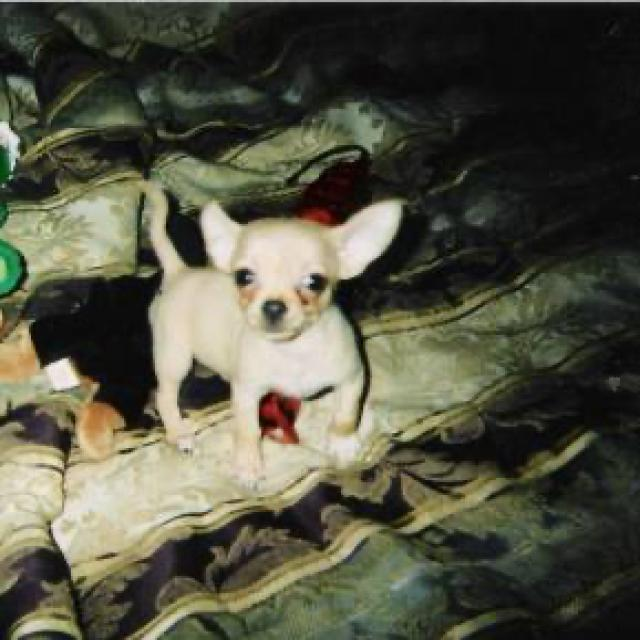dog: (197, 196, 401, 337)
